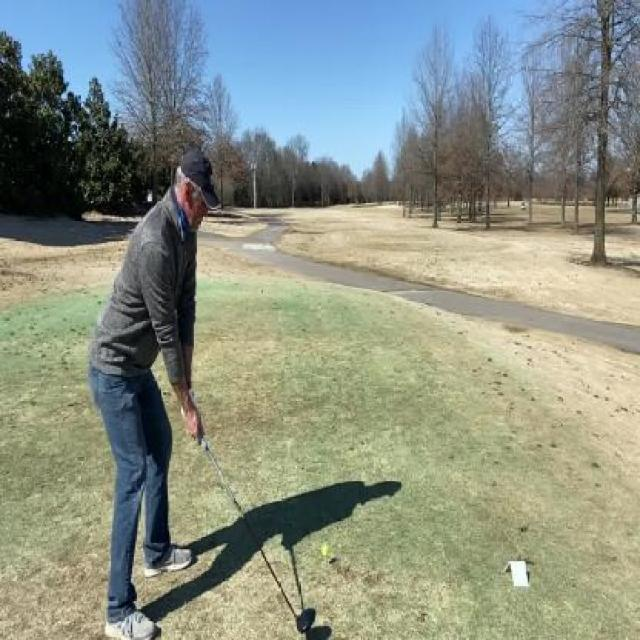club head: (289, 604, 316, 636)
